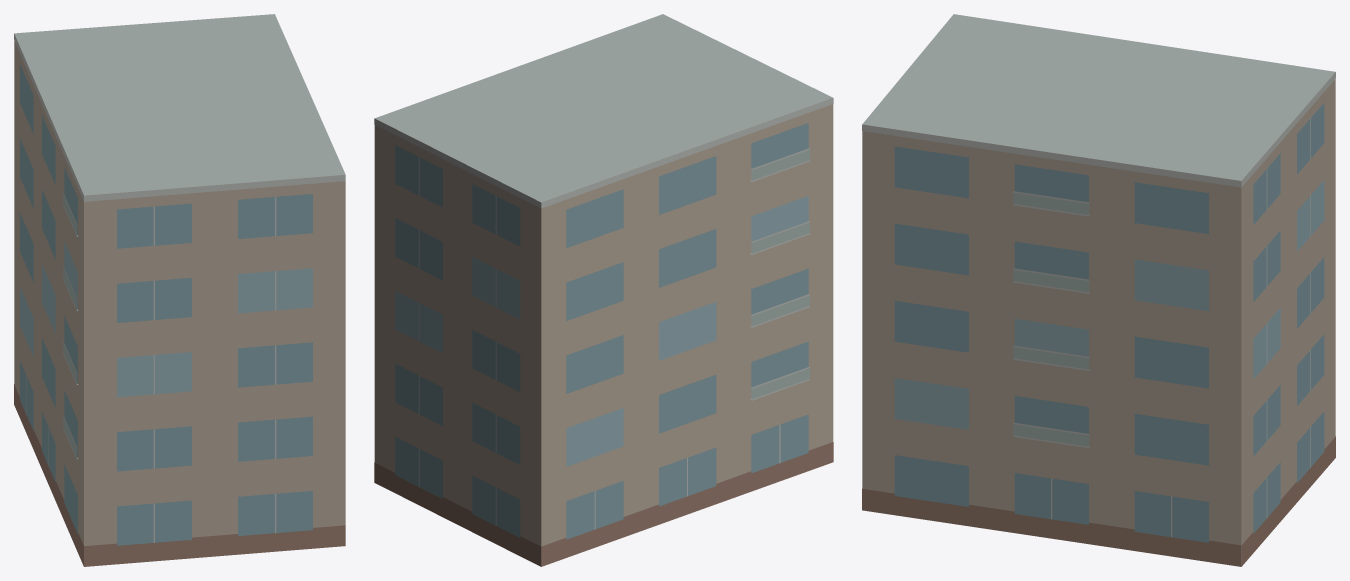
File: survey-upis-33046688.glb
The picture shows the model from 3 angles, left to right: view 1: azimuth 30°, elevation 25°; view 2: azimuth 150°, elevation 25°; view 3: azimuth 270°, elevation 25°; orthographic projection. The views are drawn at different scales.
Visible parts, largest first — view 1: survey-upis-33046688.tmp; view 2: survey-upis-33046688.tmp; view 3: survey-upis-33046688.tmp.
Boxes of the visible parts, x1=… form: survey-upis-33046688.tmp: x1=14, y1=14, x2=345, y2=566; survey-upis-33046688.tmp: x1=374, y1=14, x2=833, y2=566; survey-upis-33046688.tmp: x1=862, y1=14, x2=1335, y2=566.
Bounding box in the file's own units: 13.51 × 14.55 × 16.2.
